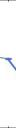line: (0, 52, 16, 65)
